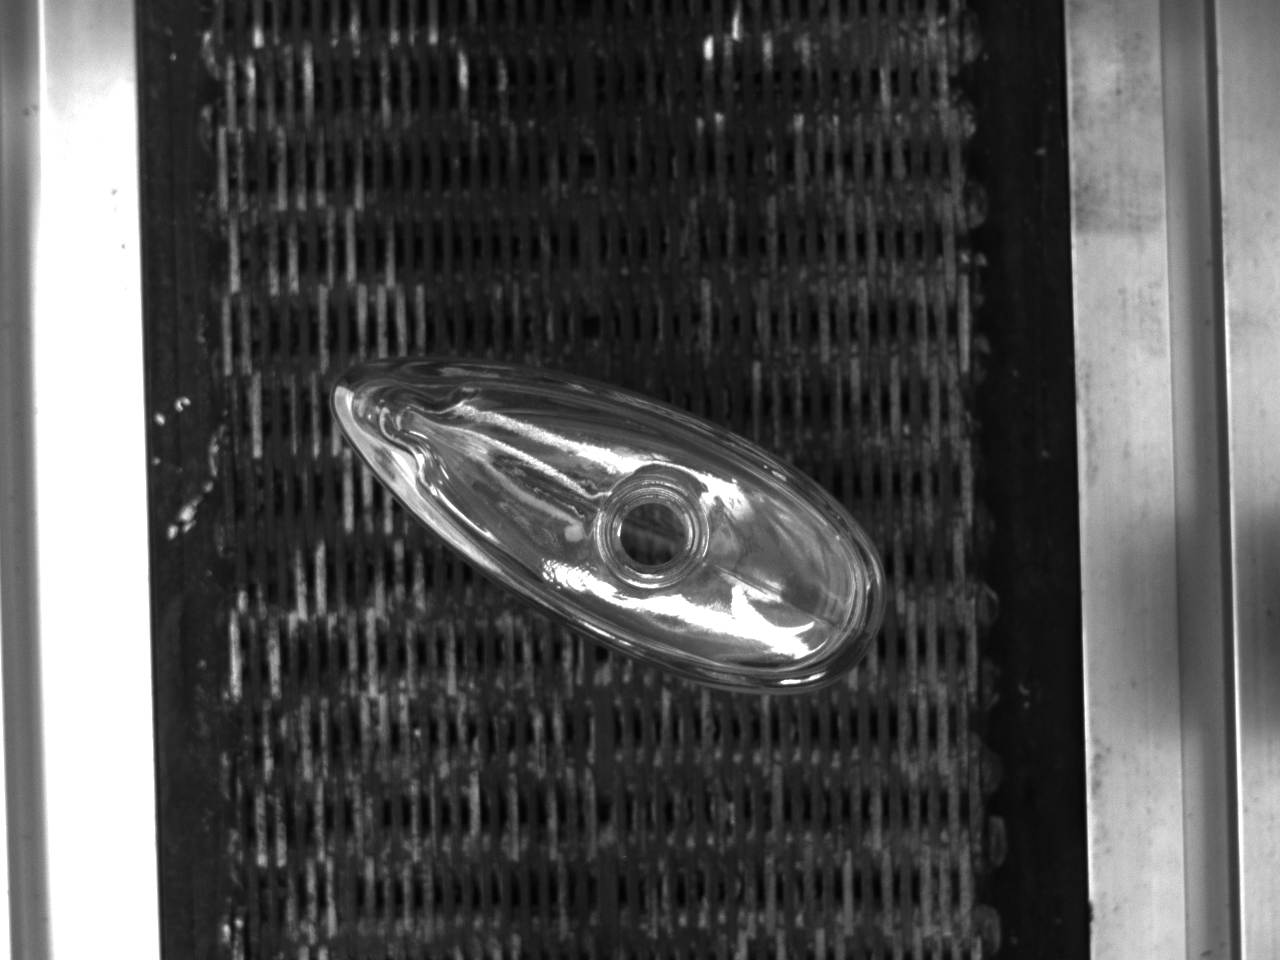bottleneck: (601, 478, 709, 590)
